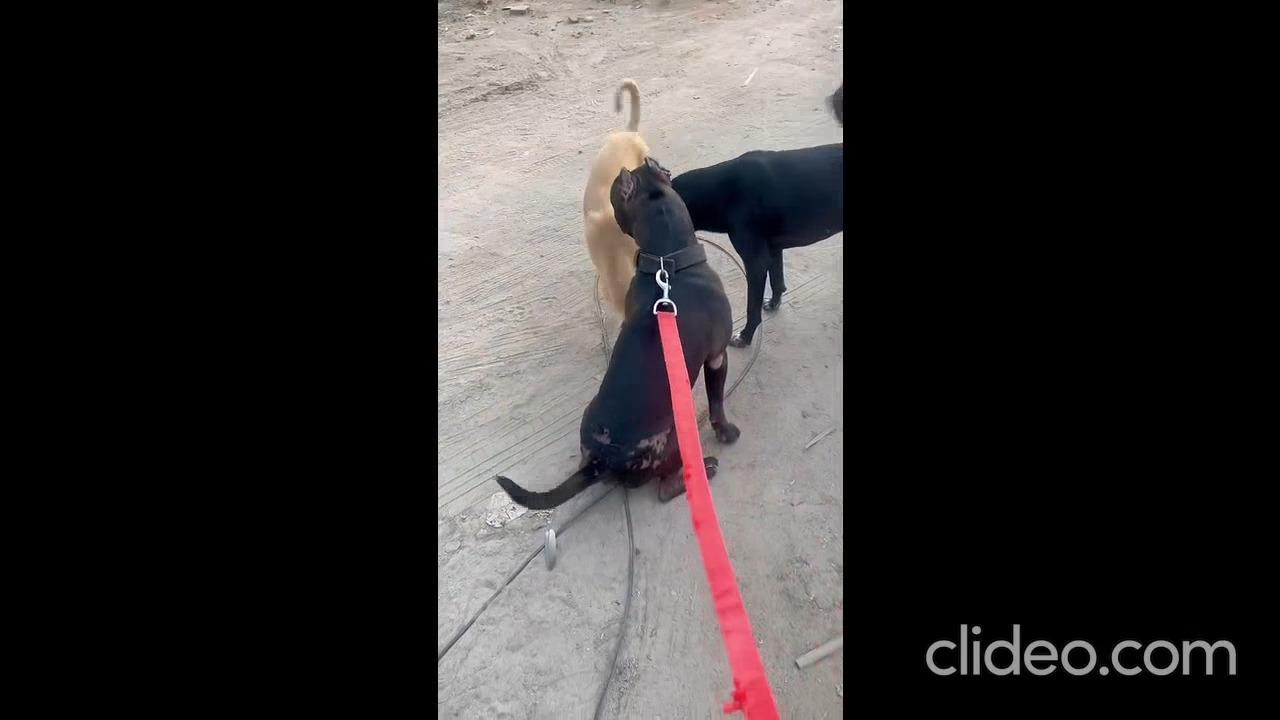dog: (681, 91, 846, 345)
